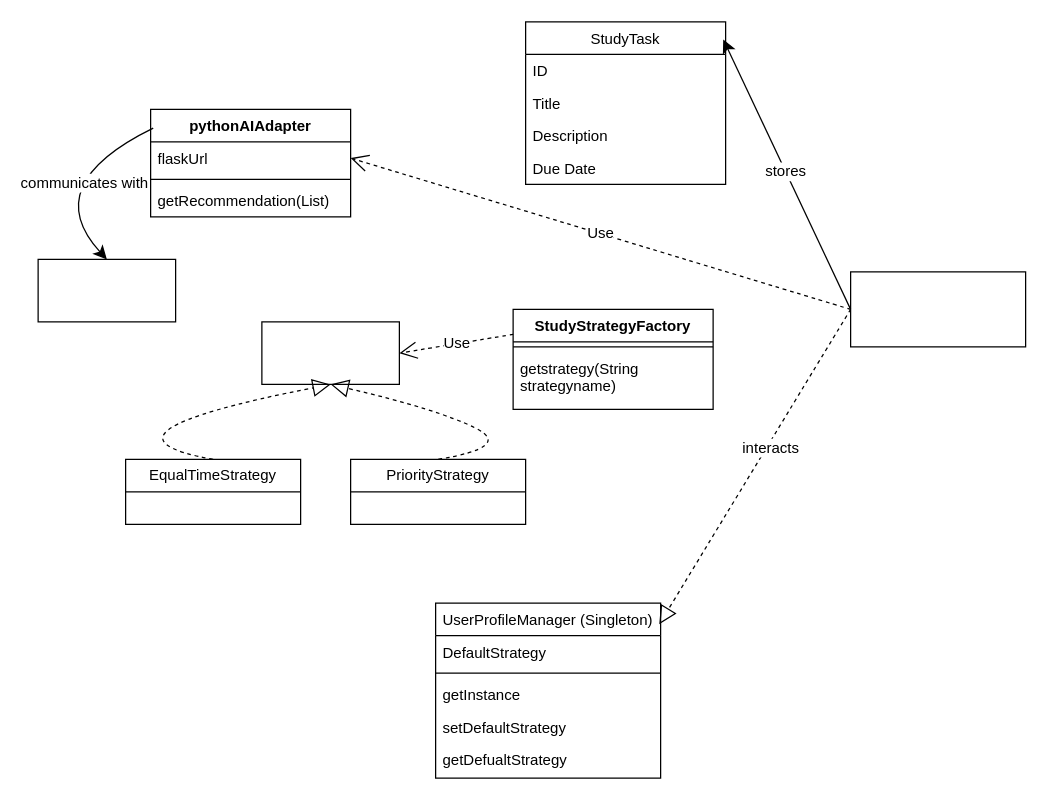
The diagram is 1049 pixels wide and 801 high, and some of its shapes have lost their labels. The shapes that lost their labels are listed below. From the top down, each one's centre as x and y in pixels, then its label:
the point at 106,290: Python API
the point at 937,309: TaskController
the point at 330,352: «interface» PostAIStrategy
